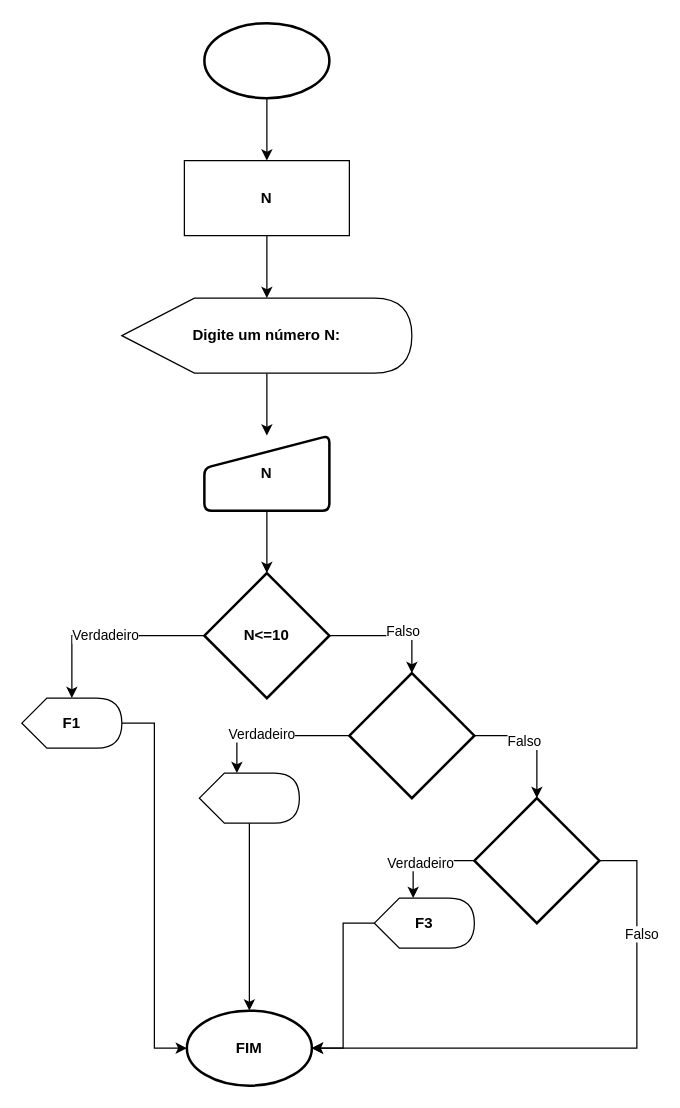
This 680x1108 diagram has some shape labels left out. Here are the shapes that lost their labels. From the top down, the centre of each, then its label:
At (x=266, y=60): "INÍCIO".
At (x=411, y=735): "N>10 e N<=100".
At (x=248, y=797): "F2".
At (x=536, y=860): "N>100".
